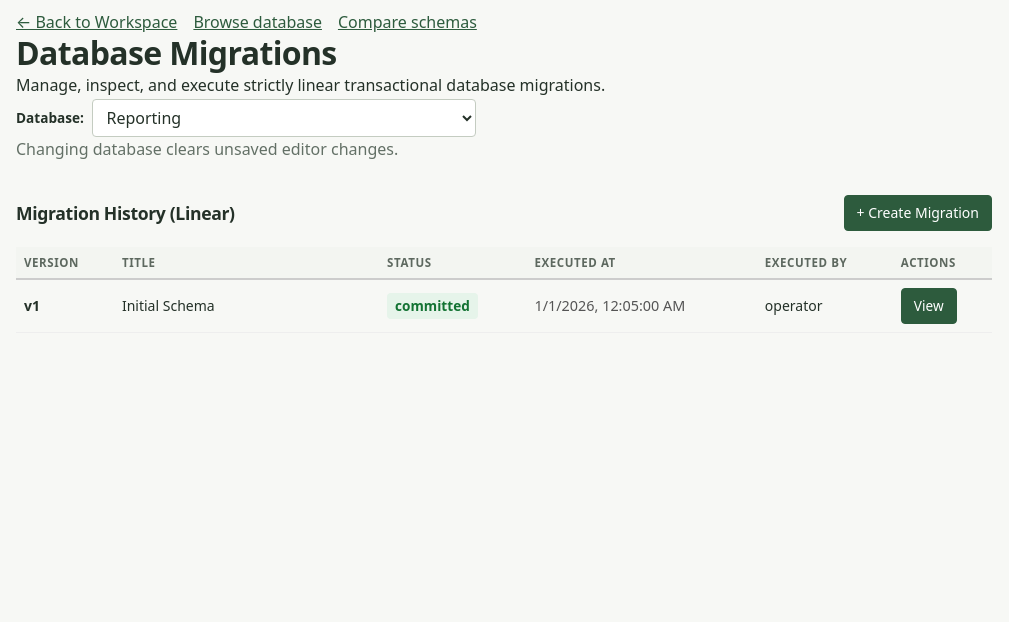
Test: loads and displays linear migrations table and views details
Expected: the heading "Database Migrations" is shown, [16,31,337,74]
Expected: the text "Initial Schema" is shown, [114,279,379,332]
Step 1. Click the button "View" → (929, 306), box [901,288,957,324]
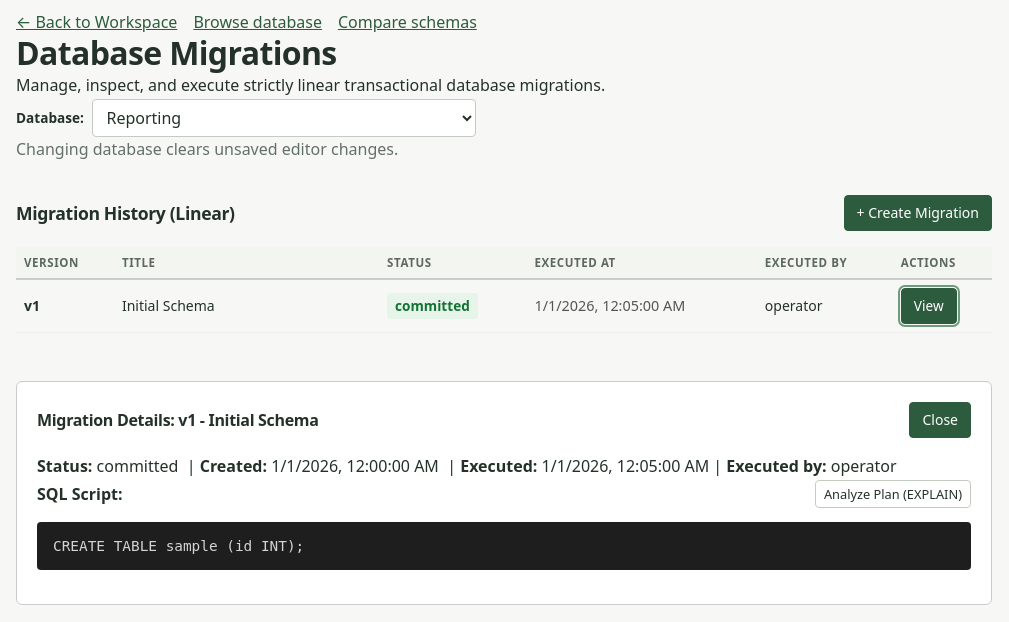
Now the text "CREATE TABLE sample (id INT);" is shown, box [37,522,971,570]
Now the text "Executed by:" shows "operator", box [831,455,897,477]
